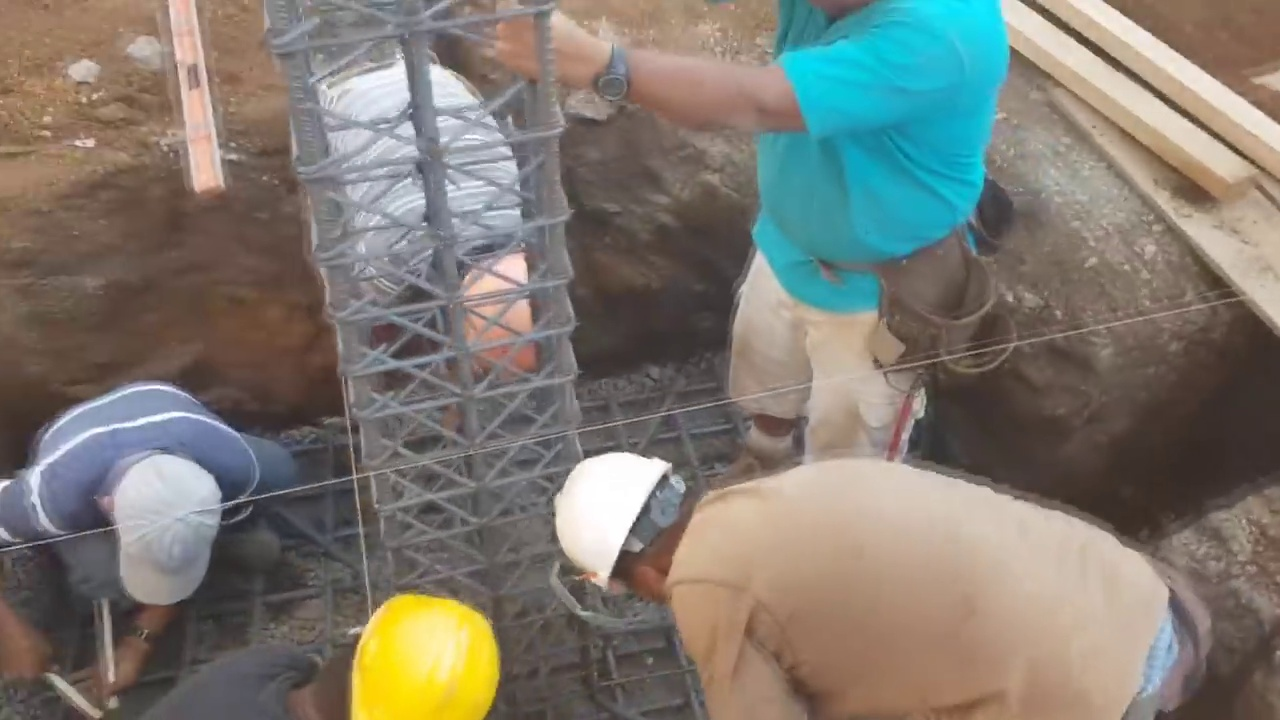helmet: (559, 450, 683, 609), (350, 599, 502, 713), (457, 249, 540, 380)
helmet-off: (94, 446, 213, 605)
helmet-on: (288, 596, 504, 719), (559, 442, 712, 614), (421, 230, 547, 381)
person: (482, 0, 1021, 467), (555, 445, 1198, 720), (0, 388, 297, 699), (303, 68, 546, 381), (135, 590, 506, 717)
